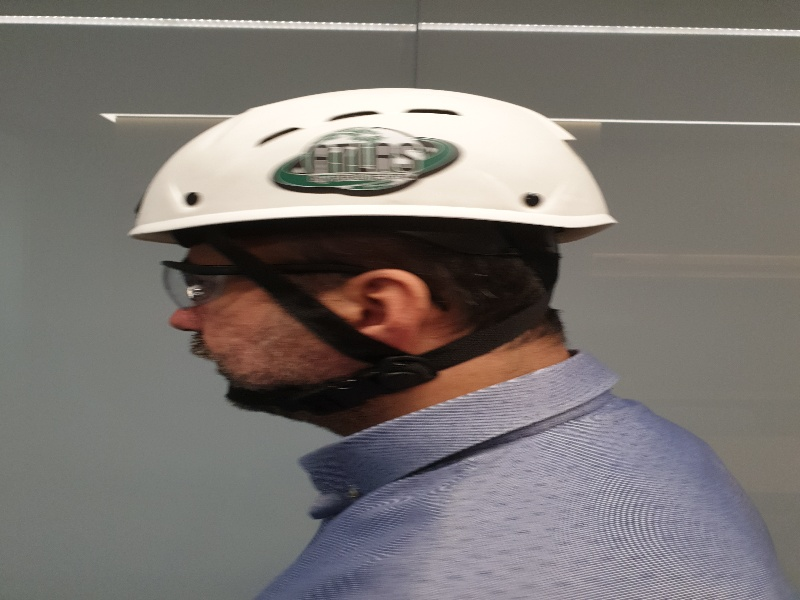Baret: (134, 88, 614, 237)
Gozluk: (157, 258, 368, 310)
